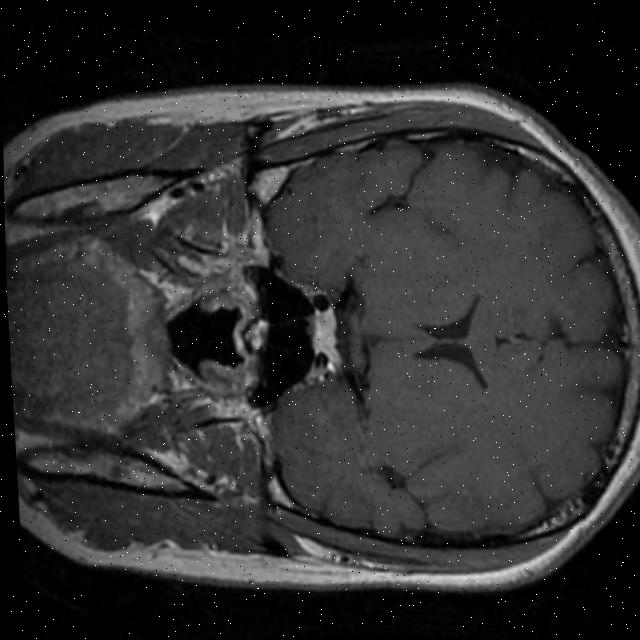Pituitary: (307, 304, 341, 358)
